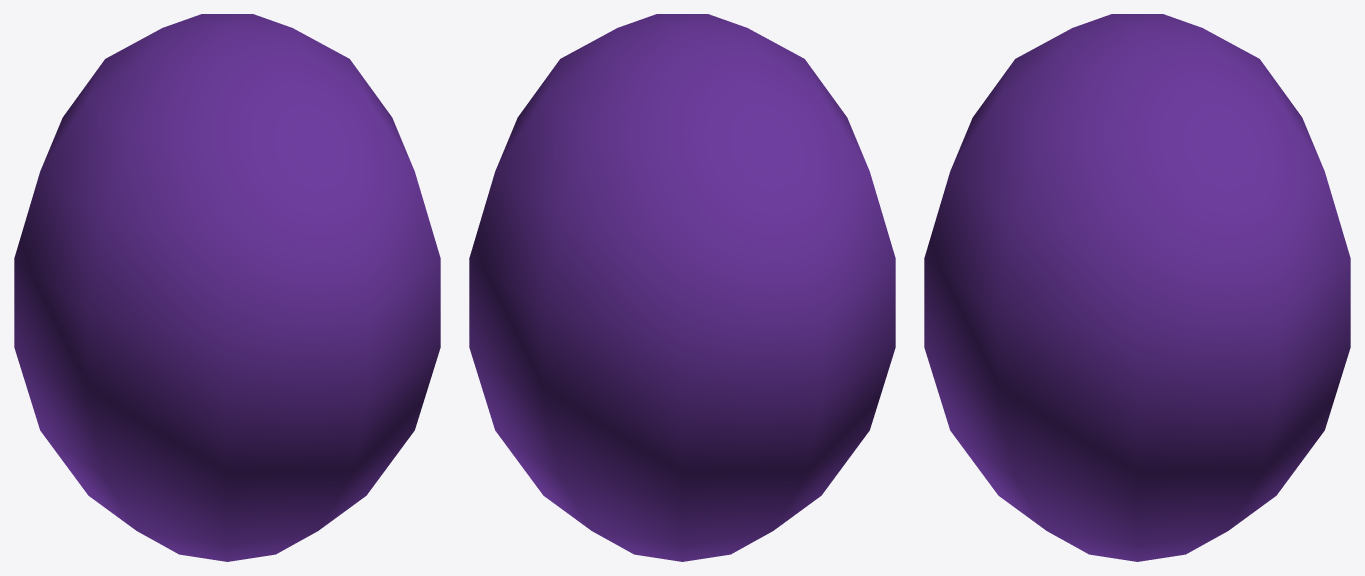
Rendered from arcankit_stage1.obj.
3 renders of one model, left to right at view 1: azimuth 30°, elevation 25°; view 2: azimuth 150°, elevation 25°; view 3: azimuth 270°, elevation 25°, orthographic.
Bounding box in the file's own units: 1.24 × 1.69 × 1.26.
